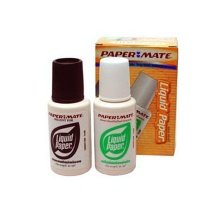book: (91, 34, 181, 158)
correction_fluid: (45, 56, 92, 178), (92, 55, 138, 177)
